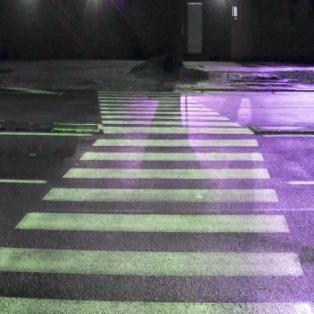Paso de Cebra: (1, 204, 306, 282), (78, 136, 265, 163)
